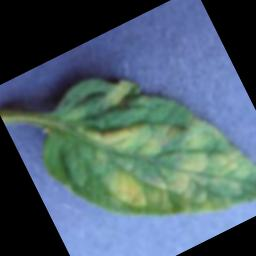Leaf_Mold: (123, 93, 256, 243), (74, 100, 152, 166), (100, 162, 152, 221), (103, 76, 135, 106)
